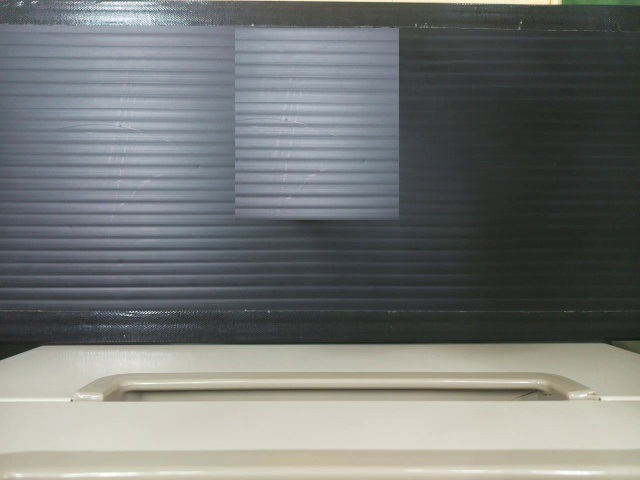can: (235, 44, 371, 209)
